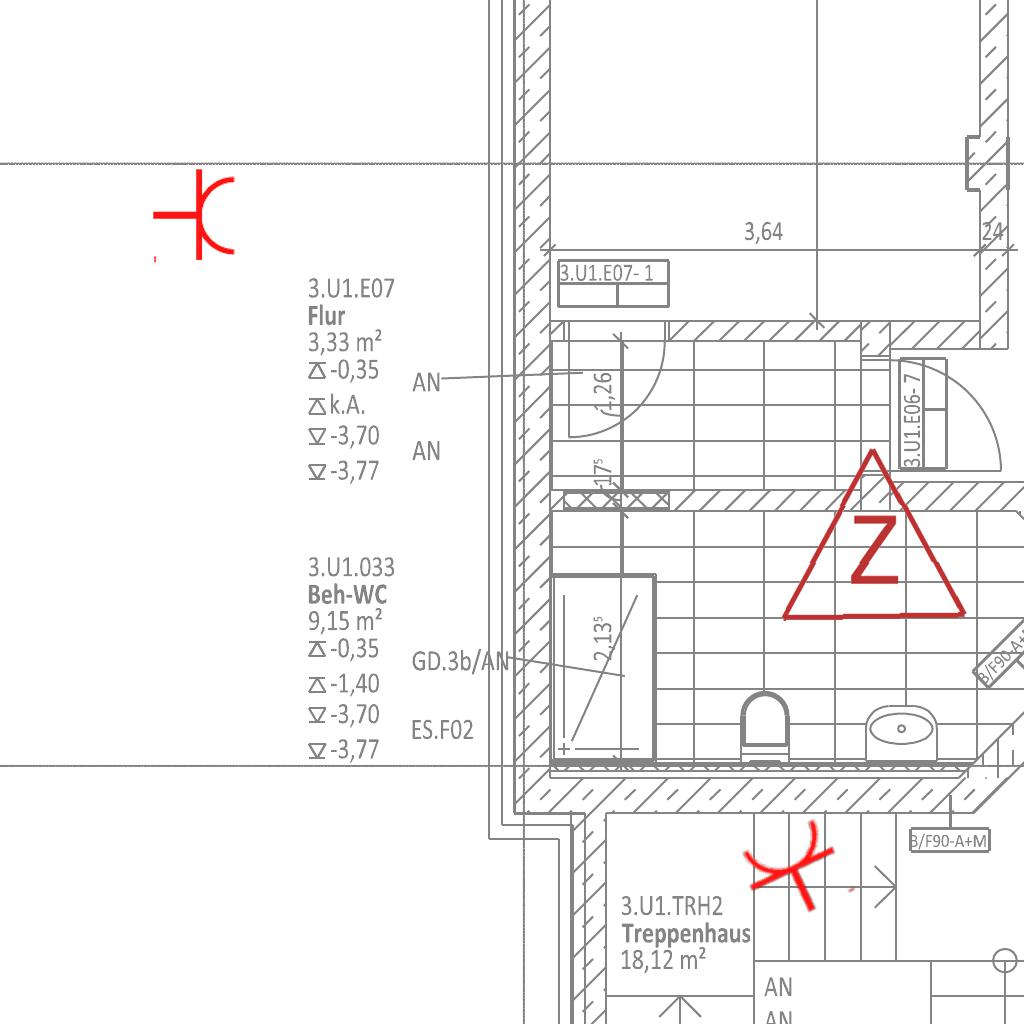Schukosteckdose_einfach: (732, 811, 861, 933), (151, 167, 238, 267)
Zimmersignalleuchte: (771, 432, 971, 636)
